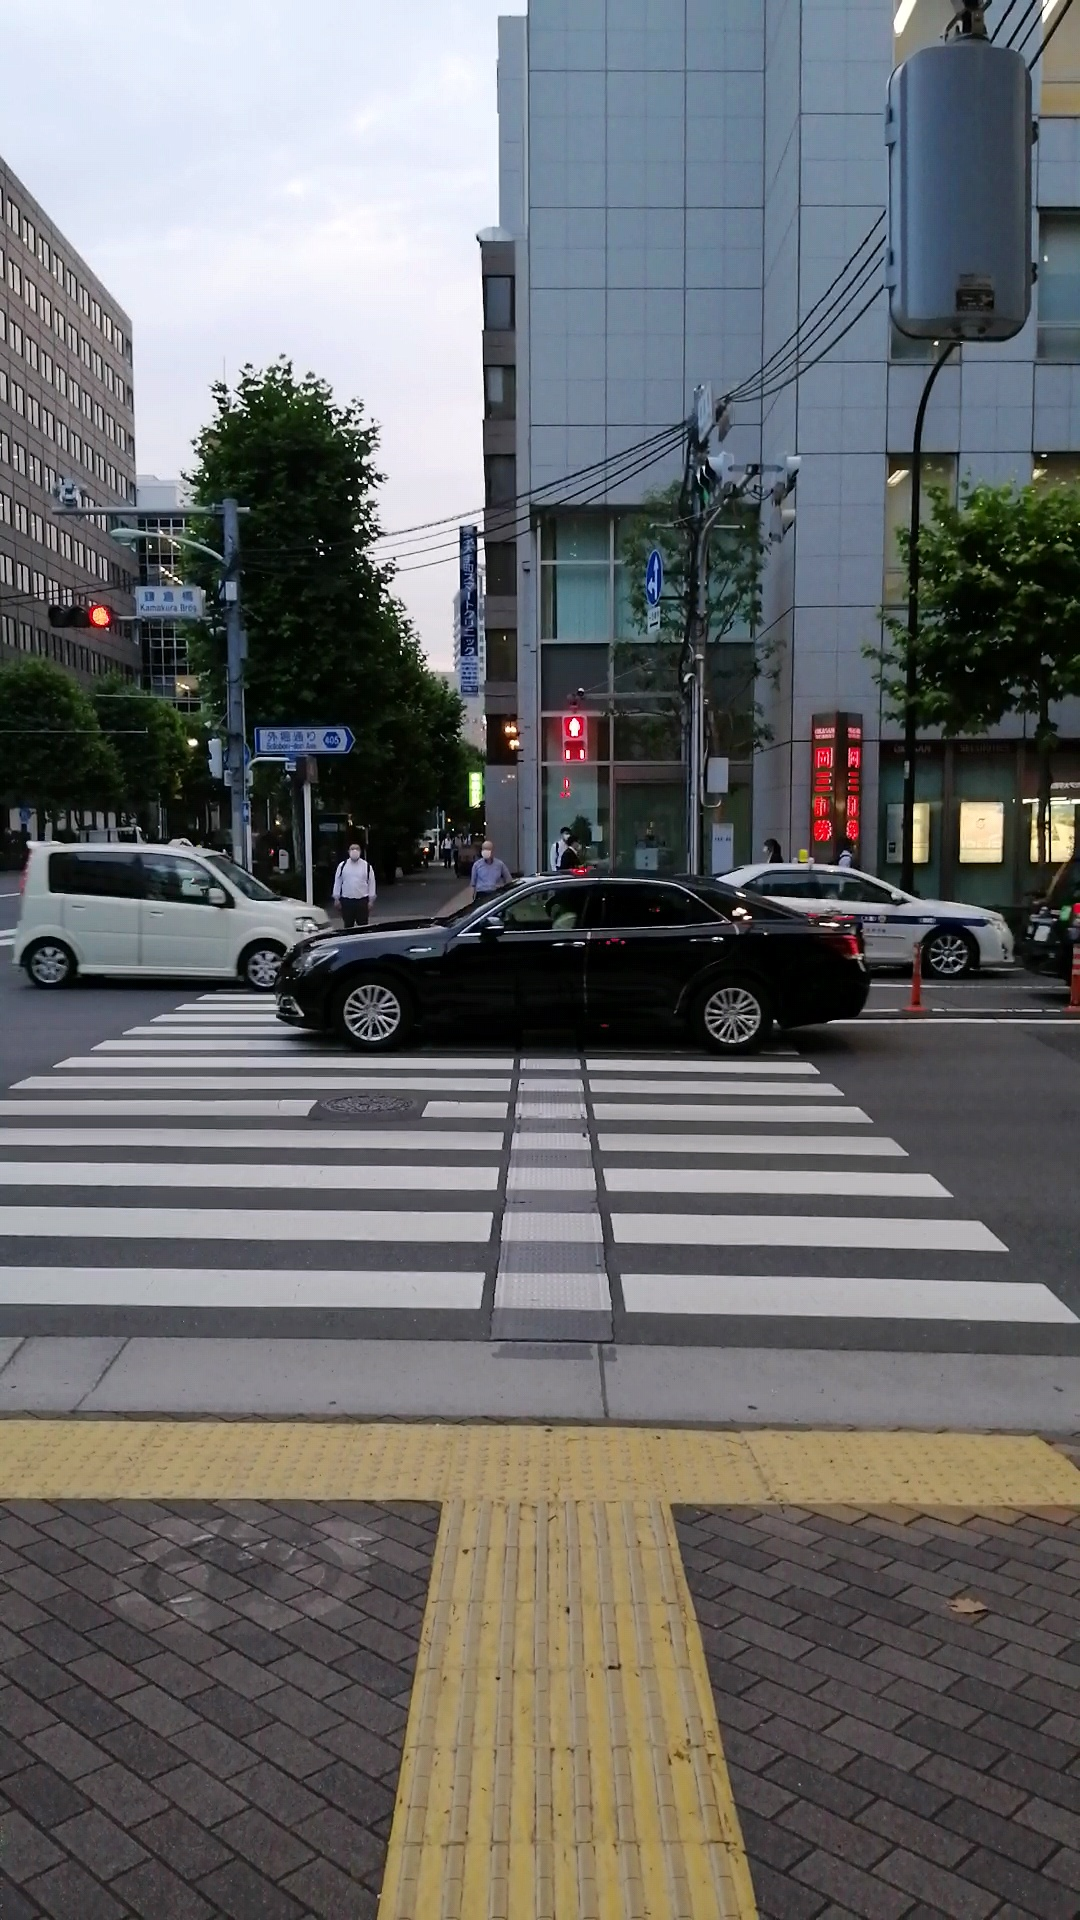red: (558, 712, 589, 764)
